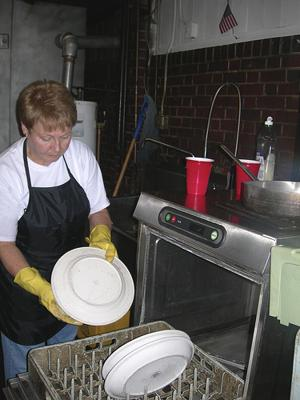person: (1, 78, 119, 381)
